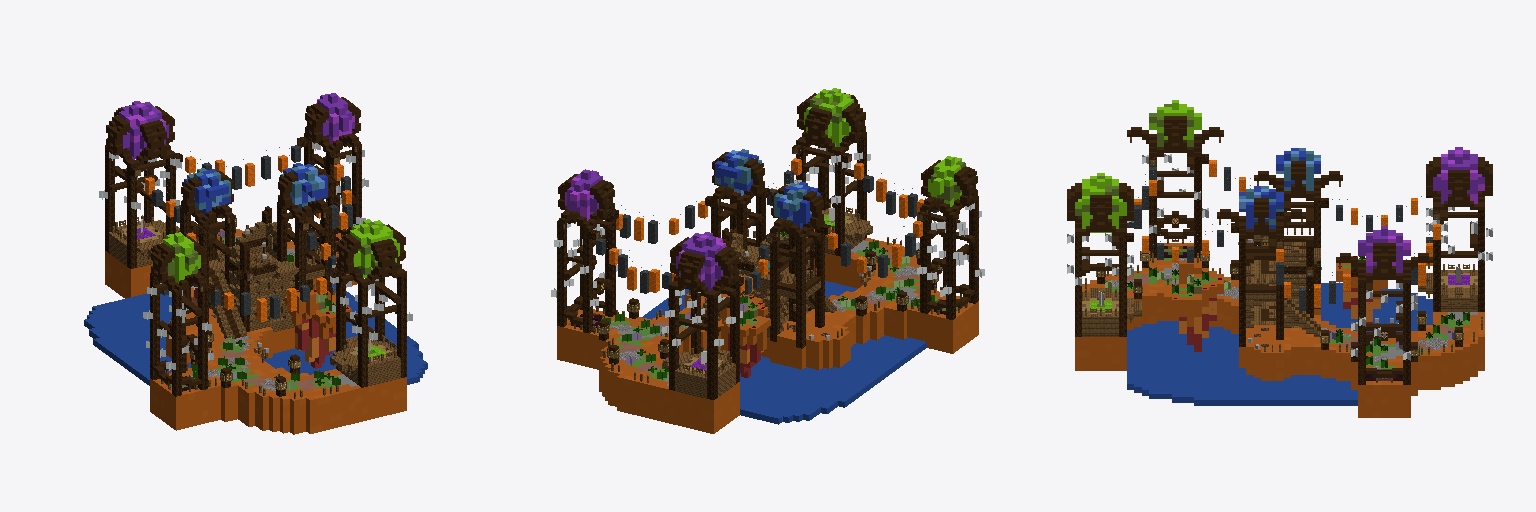
3 renders of one model, left to right at view 1: azimuth 30°, elevation 25°; view 2: azimuth 150°, elevation 25°; view 3: azimuth 270°, elevation 25°, orthographic.
Bounding box in the file's own units: 47 × 27 × 57.
53 materials, 16 textured.